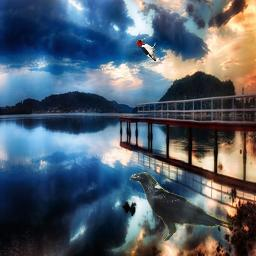Crow: (128, 172, 233, 243)
Woodpecker: (136, 38, 156, 61)
